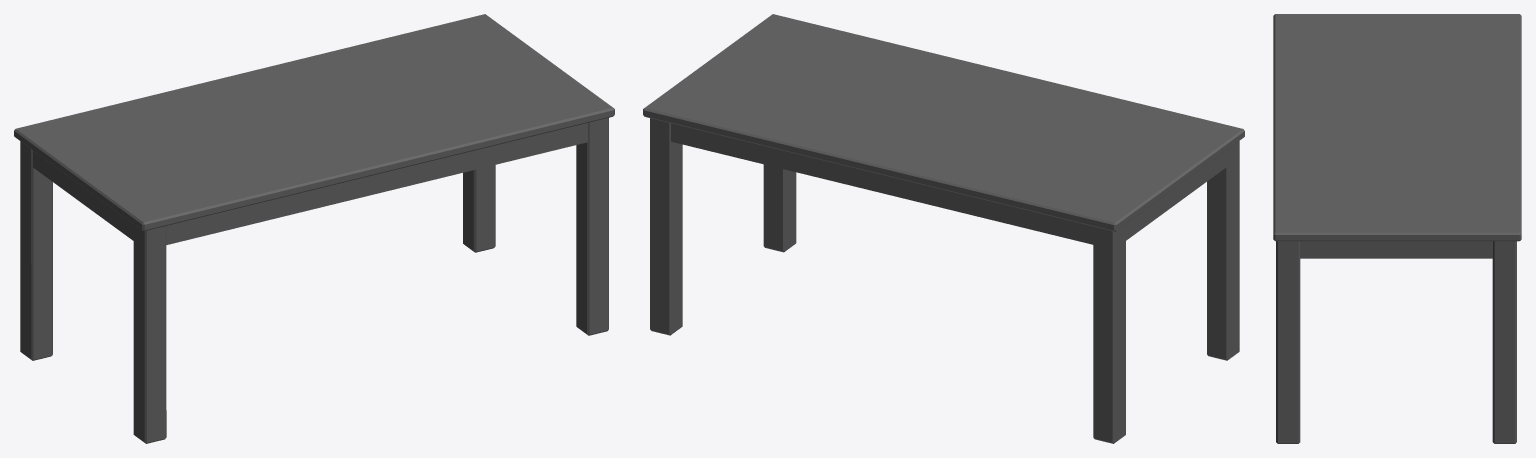
Rendered from desk.obj.
3 renders of one model, left to right at view 1: azimuth 30°, elevation 25°; view 2: azimuth 150°, elevation 25°; view 3: azimuth 270°, elevation 25°, orthographic. The views are drawn at different scales.
Bounding box in the file's own units: 1.77 × 0.8016 × 0.8438.
